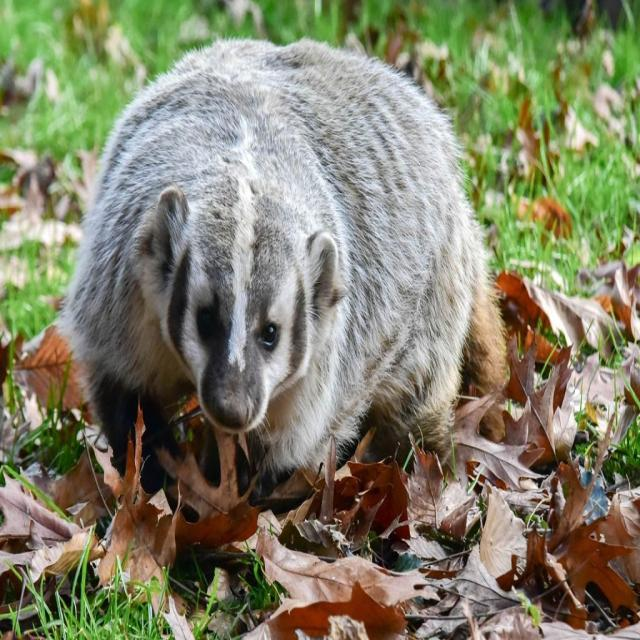Badger: (80, 27, 502, 509)
